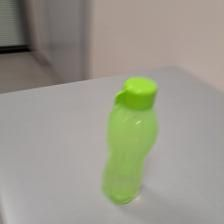bottle: (98, 76, 161, 208)
